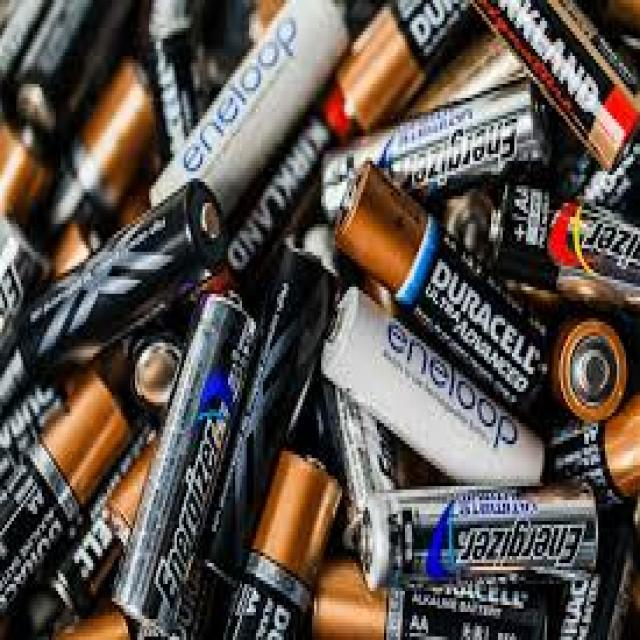non-organic waste: (334, 161, 551, 418), (117, 290, 252, 640), (322, 286, 546, 480), (144, 0, 349, 205), (21, 179, 226, 380), (468, 0, 640, 171), (361, 483, 602, 595)
